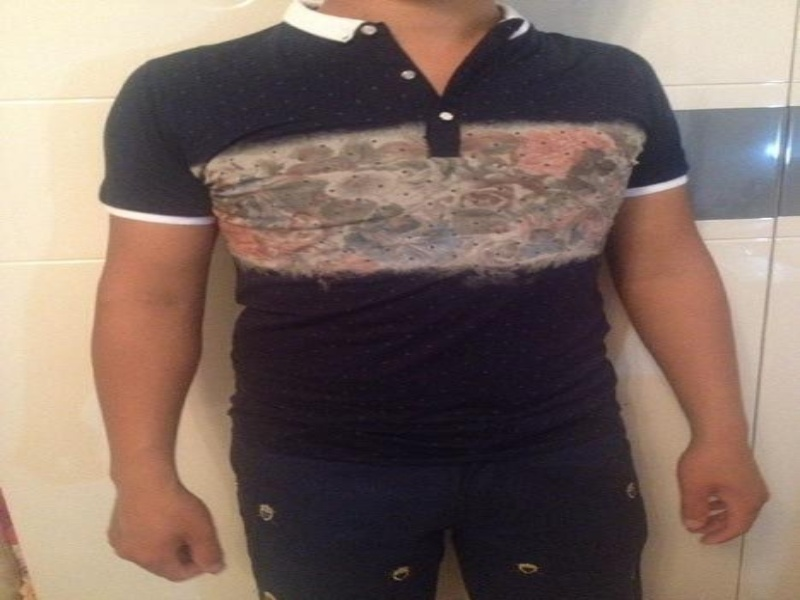short_sleeved_shirt: (96, 1, 692, 467)
trousers: (229, 418, 648, 599)
